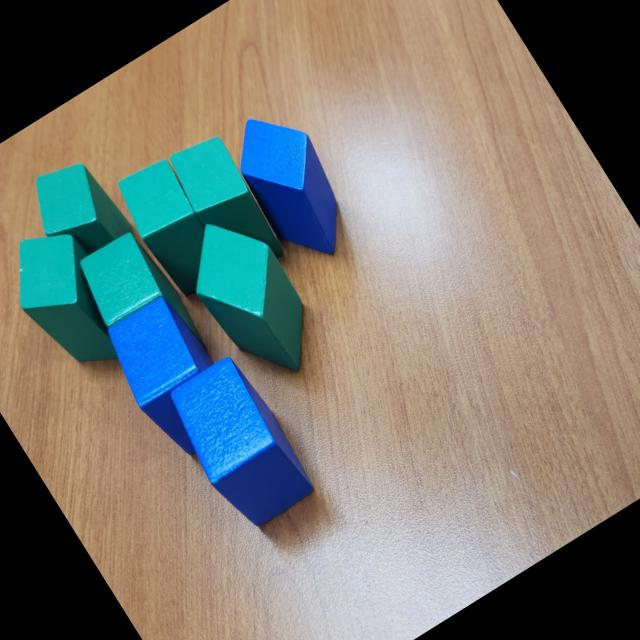blue: (158, 349, 322, 537), (94, 288, 252, 466), (217, 96, 371, 275)
green: (167, 200, 333, 394), (0, 212, 143, 388), (68, 223, 212, 386), (162, 128, 292, 284), (108, 152, 236, 302), (17, 148, 137, 275)
